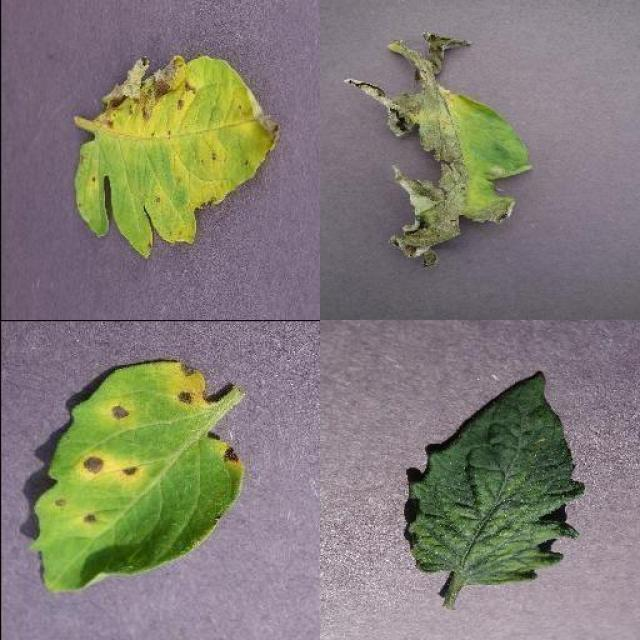Late Blight: (346, 32, 534, 272)
Septoria: (35, 362, 241, 590), (71, 58, 279, 260)
